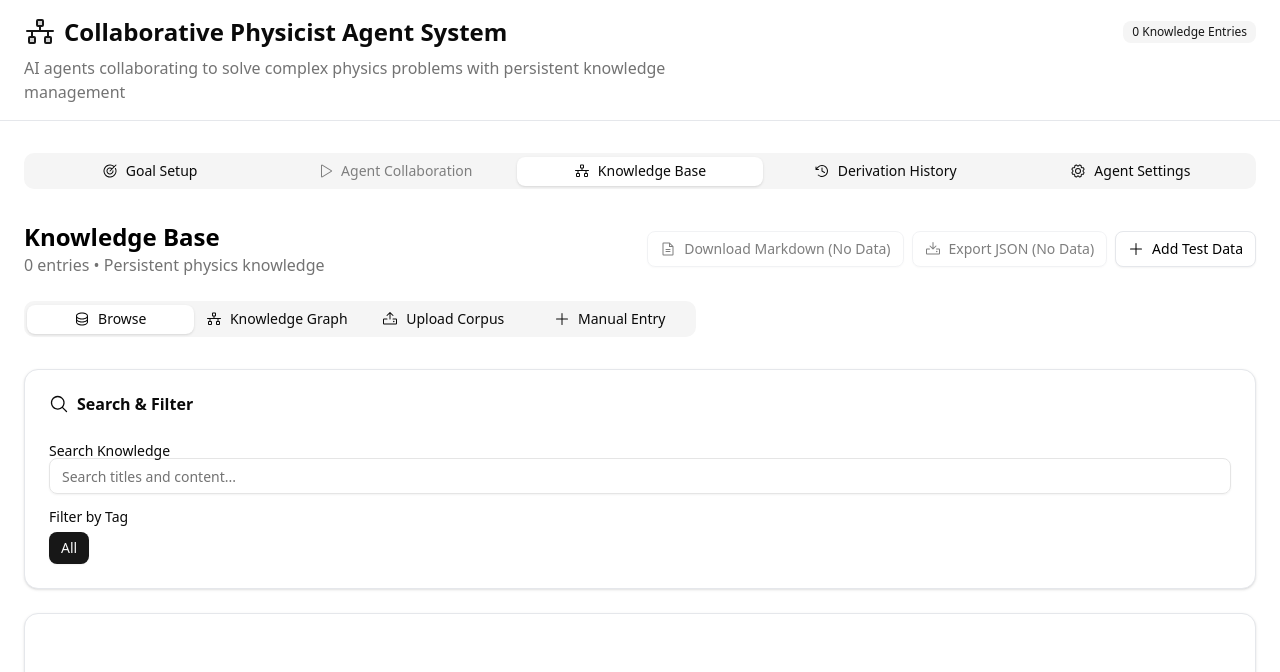
Test: Knowledge base persistence behaviour › currently loses knowledge entries when the persistence API hydrates null values
Click the button "Add Test Data" at (1186, 249), box [1115,231,1256,267]
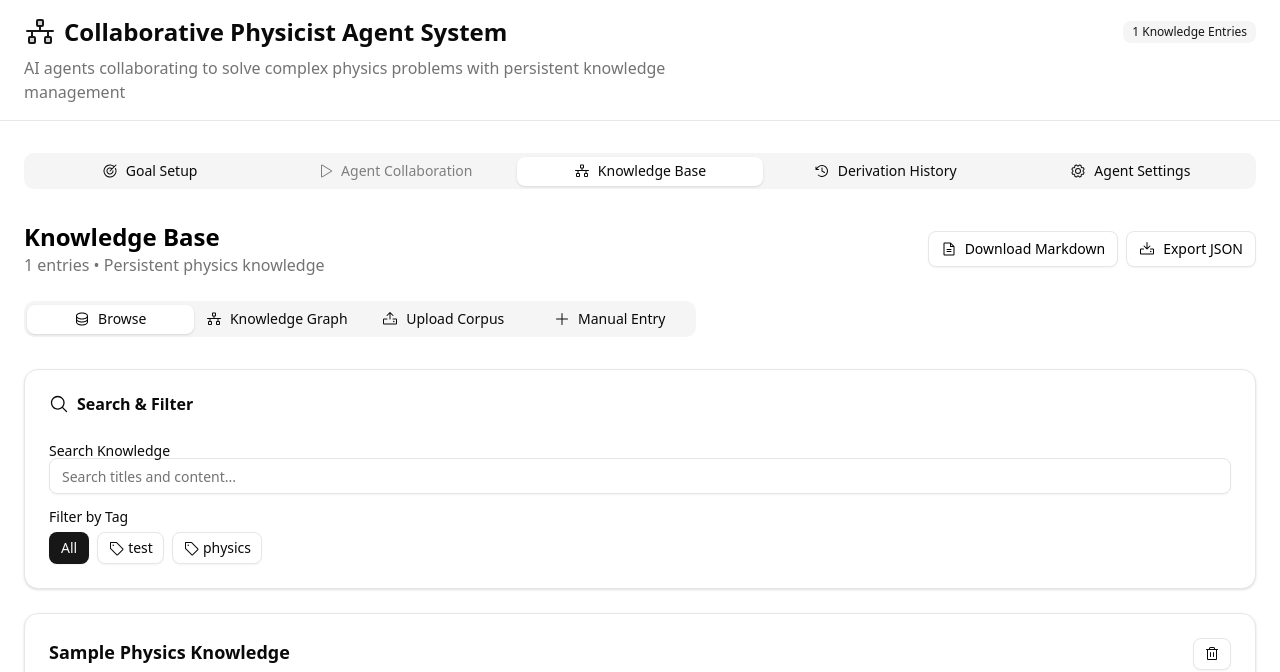
Expected: the text "Sample Physics Knowledge" is shown, [49,638,290,666]
